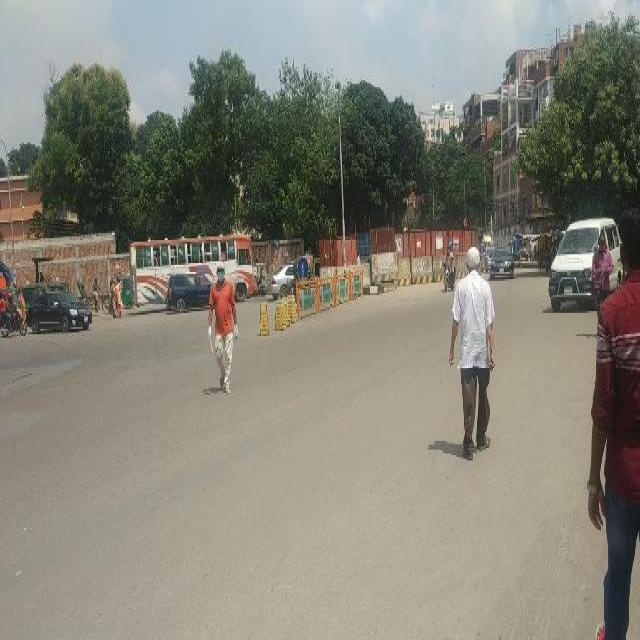10: (0, 302, 25, 338), (441, 242, 455, 292)
13: (536, 233, 550, 275), (292, 257, 308, 283), (76, 277, 90, 303), (512, 236, 522, 270), (304, 254, 316, 279)
5: (24, 292, 92, 330), (164, 272, 210, 311), (266, 264, 286, 298), (490, 246, 512, 276)
9: (548, 218, 624, 308)
Truck: (225, 232, 258, 305)
